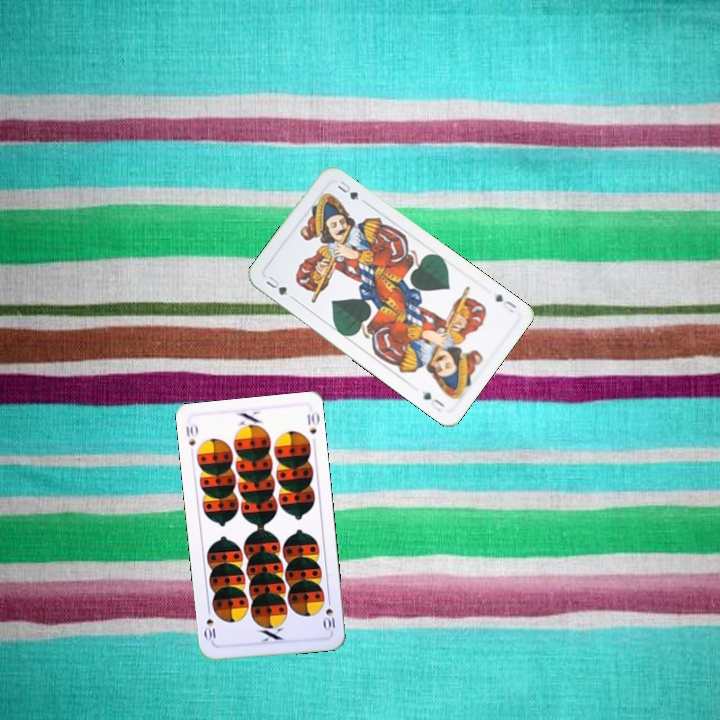GU: (262, 272, 290, 298), (491, 289, 519, 315)
S10: (320, 594, 337, 634), (182, 421, 200, 449)
